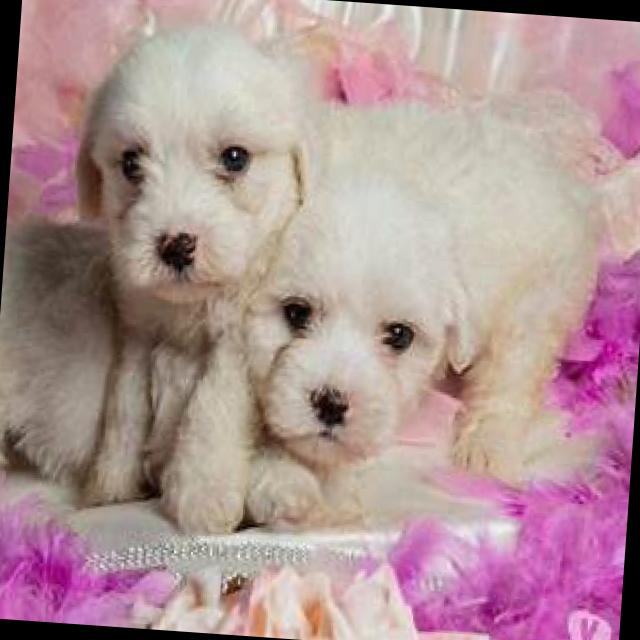animal: (57, 24, 628, 495), (0, 169, 483, 544)
